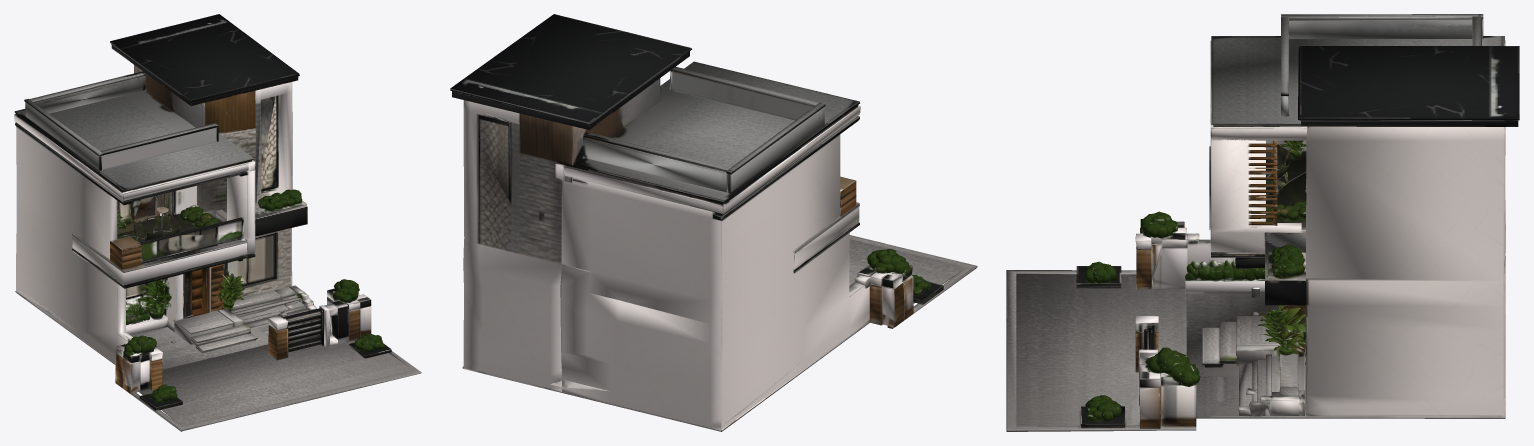
Rendered from Terrace_Villa_1009140445_texture (1).fbx.
The picture shows the model from 3 angles, left to right: view 1: azimuth 30°, elevation 25°; view 2: azimuth 150°, elevation 25°; view 3: azimuth 270°, elevation 25°; orthographic projection. The views are drawn at different scales.
Visible parts, largest first — view 1: Mesh_0; view 2: Mesh_0; view 3: Mesh_0.
Part boxes in pixels (<box>): Mesh_0: <box>14,14,421,431</box>; Mesh_0: <box>450,14,977,431</box>; Mesh_0: <box>1006,14,1519,431</box>.
Bounding box in the file's own units: 1147 × 1000 × 1525.
Materials: 1 (1 with a texture image).
